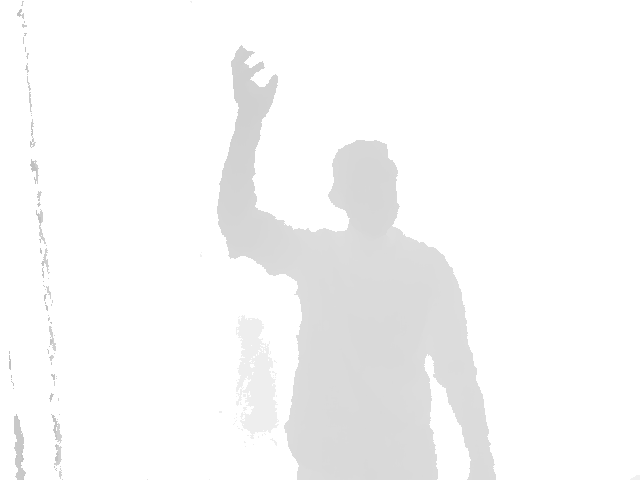hand: (230, 45, 279, 123)
head: (327, 138, 400, 239)
person: (214, 46, 498, 479)
